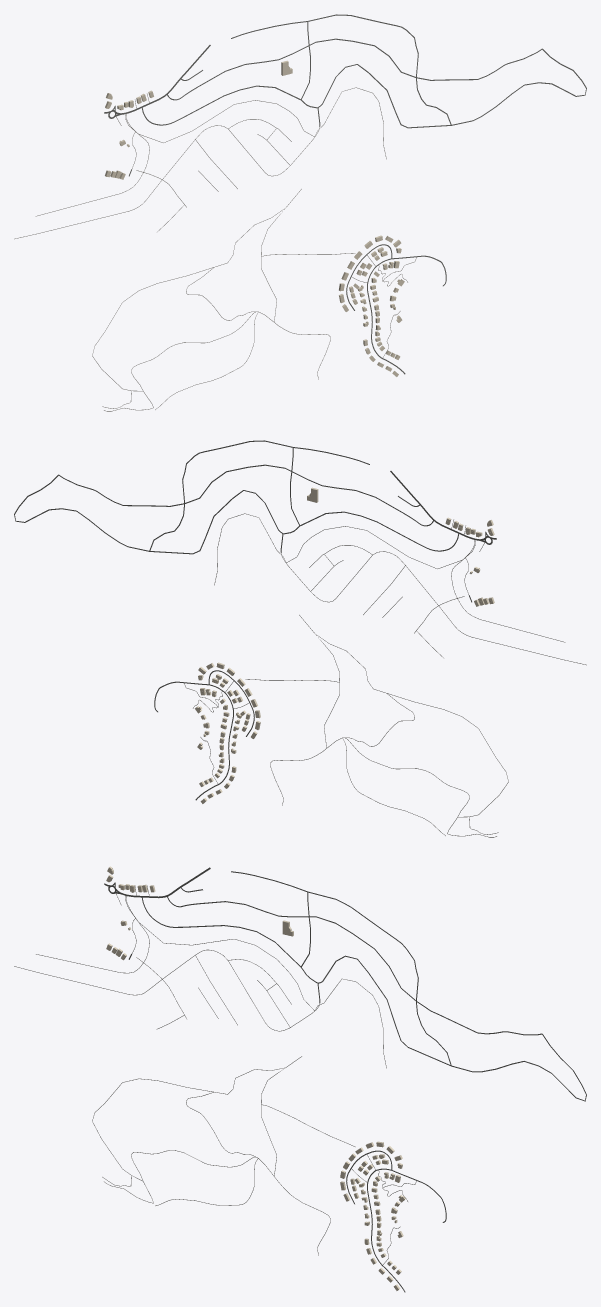
The model's file is historic-palestine-10_34_3523_3288.glb.
3 views of the same model, one above another, from view 1: azimuth 30°, elevation 25°; view 2: azimuth 150°, elevation 25°; view 3: azimuth 330°, elevation 25° (orthographic).
Parts seen in each view (by area): view 1: Road .003, Road .004; view 2: Road .003, Road .004; view 3: Road .003, Road .004.
Part boxes in pixels (box(x1,y1,x2,y2)): Road .003: box(142, 48, 586, 128); Road .004: box(167, 38, 541, 100); Road .003: box(14, 474, 458, 554); Road .004: box(59, 464, 433, 526); Road .003: box(141, 897, 586, 1101); Road .004: box(167, 896, 542, 1035).
Size of the model in its own units: 1851 by 1178 by 8.7.
